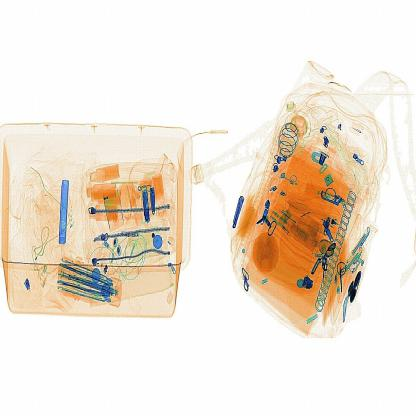pliers: (58, 177, 72, 249)
